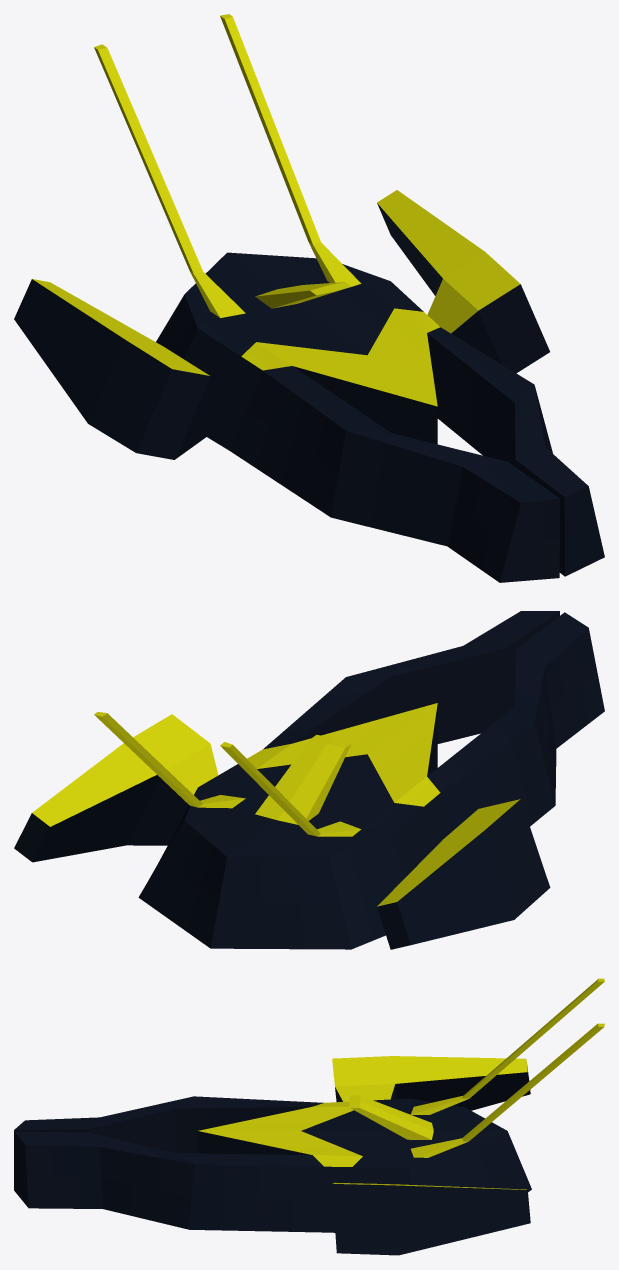
The model's file is enemigo2.fbx.
3 renders of one model, top to bottom at view 1: azimuth 30°, elevation 25°; view 2: azimuth 150°, elevation 25°; view 3: azimuth 270°, elevation 25°, orthographic. The views are drawn at different scales.
Visible parts, largest first — view 1: Yellow_Parts, Hull; view 2: Yellow_Parts, Hull; view 3: Yellow_Parts, Hull.
Part boxes in pixels (x1=…): Yellow_Parts: x1=14, y1=203, x2=604, y2=582; Hull: x1=32, y1=14, x2=520, y2=406; Yellow_Parts: x1=14, y1=611, x2=604, y2=949; Hull: x1=32, y1=703, x2=520, y2=906; Yellow_Parts: x1=14, y1=1062, x2=531, y2=1255; Hull: x1=198, y1=978, x2=604, y2=1189.
Size of the model in its own units: 332 by 191 by 541.
